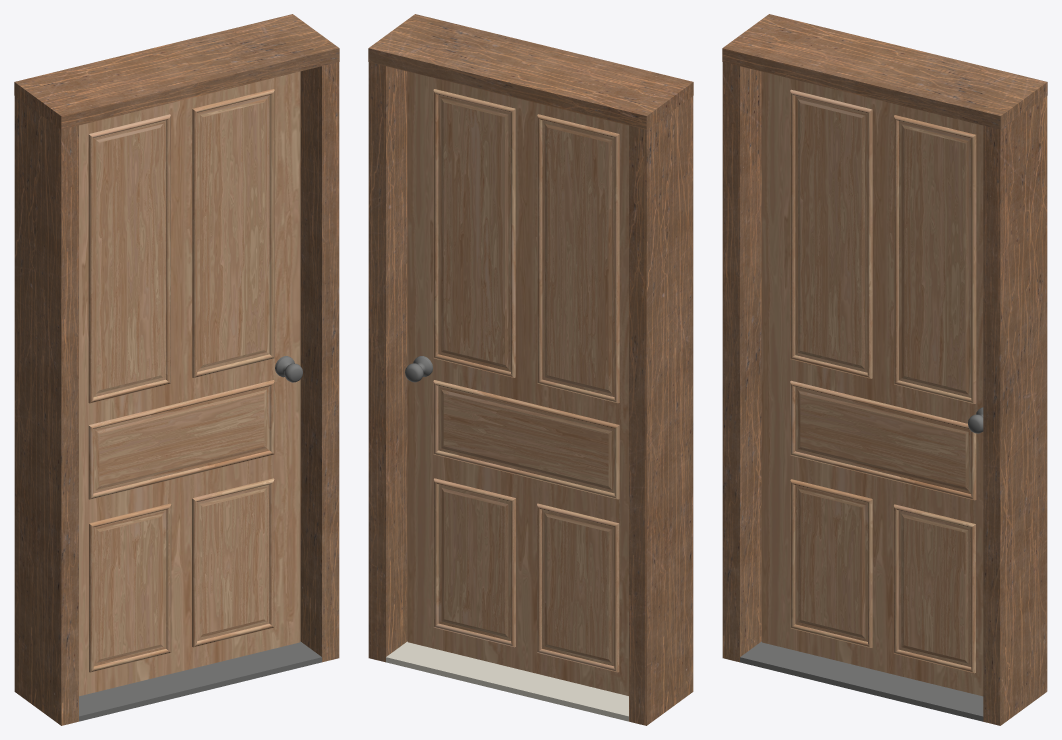
File: Door_03.fbx
3 renders of one model, left to right at view 1: azimuth 30°, elevation 25°; view 2: azimuth 150°, elevation 25°; view 3: azimuth 330°, elevation 25°, orthographic.
Parts seen in each view (by area): view 1: Door_03, Door_03_Frame; view 2: Door_03, Door_03_Frame; view 3: Door_03, Door_03_Frame.
Boxes of the visible parts, x1,y1,x2,y2 form: Door_03: (79, 71, 302, 696); Door_03_Frame: (14, 14, 339, 725); Door_03: (405, 71, 628, 695); Door_03_Frame: (368, 14, 693, 725); Door_03: (761, 71, 983, 696); Door_03_Frame: (722, 14, 1047, 725).
Size of the model in its own units: 1.03 by 2.16 by 0.3.
